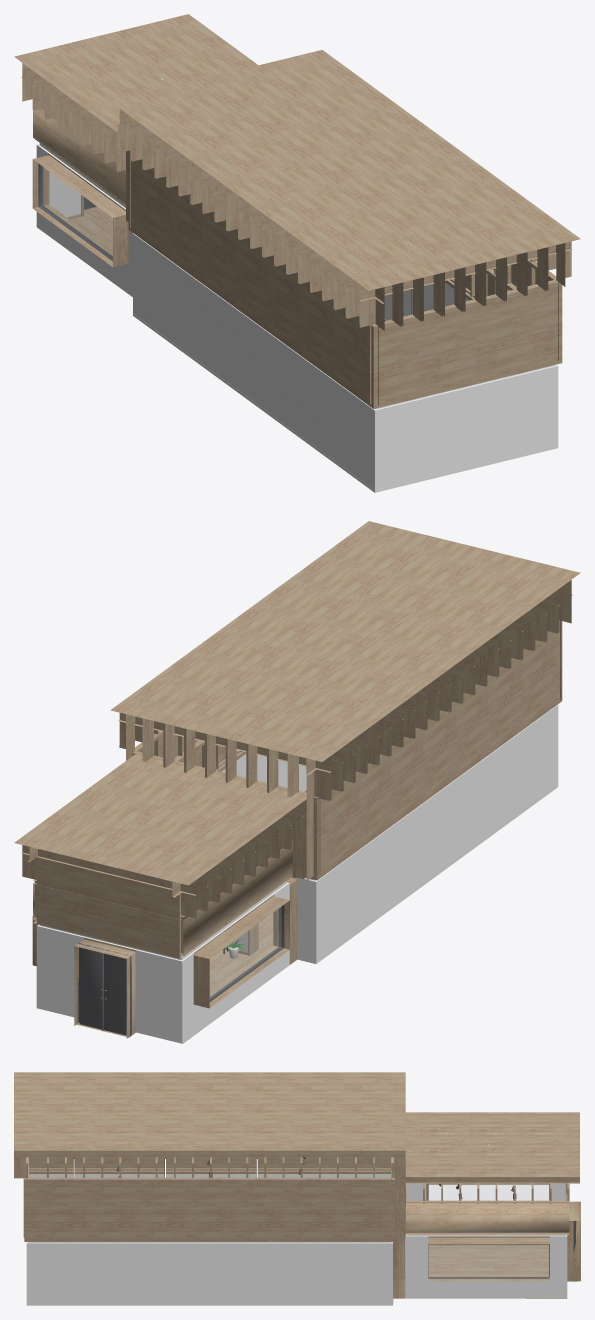
Rendered from gallery.glb.
3 renders of one model, top to bottom at view 1: azimuth 30°, elevation 25°; view 2: azimuth 150°, elevation 25°; view 3: azimuth 270°, elevation 25°, orthographic. The views are drawn at different scales.
Parts seen in each view (by area): view 1: gallery_ceiling, gallery_walls, gallery_trims, gallery_window_glass, gallery_floor, gallery_door_window_frames; view 2: gallery_ceiling, gallery_walls, gallery_trims, gallery_door_window_frames, gallery_window_glass, gallery_floor; view 3: gallery_ceiling, gallery_walls, gallery_window_glass, gallery_trims, gallery_floor, gallery_door_window_frames.
Part boxes in pixels (x1,y1,x2,y2): gallery_ceiling: (14, 14, 580, 408); gallery_walls: (36, 143, 558, 492); gallery_trims: (32, 153, 386, 488); gallery_window_glass: (41, 166, 112, 258); gallery_floor: (36, 206, 123, 290); gallery_door_window_frames: (38, 163, 112, 261); gallery_ceiling: (14, 521, 580, 958); gallery_walls: (36, 704, 558, 1043); gallery_trims: (32, 786, 555, 1038); gallery_door_window_frames: (77, 905, 284, 1036); gallery_window_glass: (210, 907, 281, 998); gallery_floor: (76, 913, 273, 1043); gallery_ceiling: (14, 1072, 579, 1241); gallery_walls: (26, 1174, 567, 1305); gallery_window_glass: (429, 1185, 548, 1277); gallery_trims: (393, 1183, 580, 1303); gallery_floor: (428, 1245, 577, 1298); gallery_door_window_frames: (428, 1184, 575, 1280).
Size of what is drawn, in the model's own units: 8.1 by 7.74 by 24.75.
16 materials, 3 textured.
